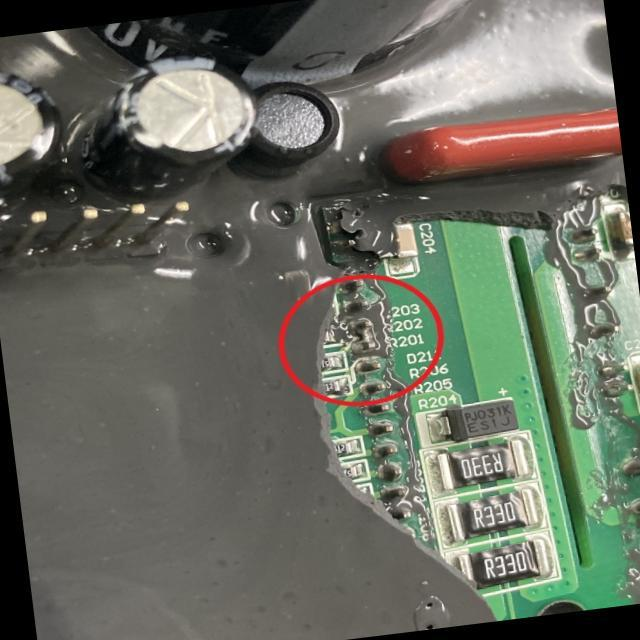Short_circuit: (347, 317, 380, 354)
